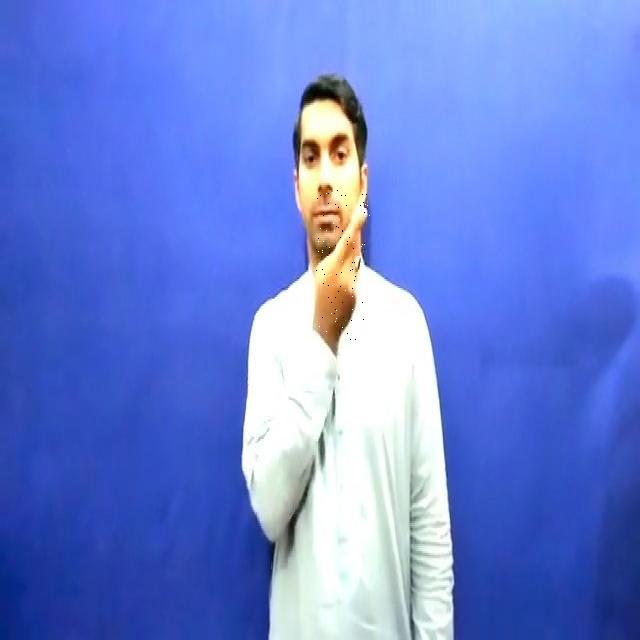napkin: (316, 190, 370, 340)
